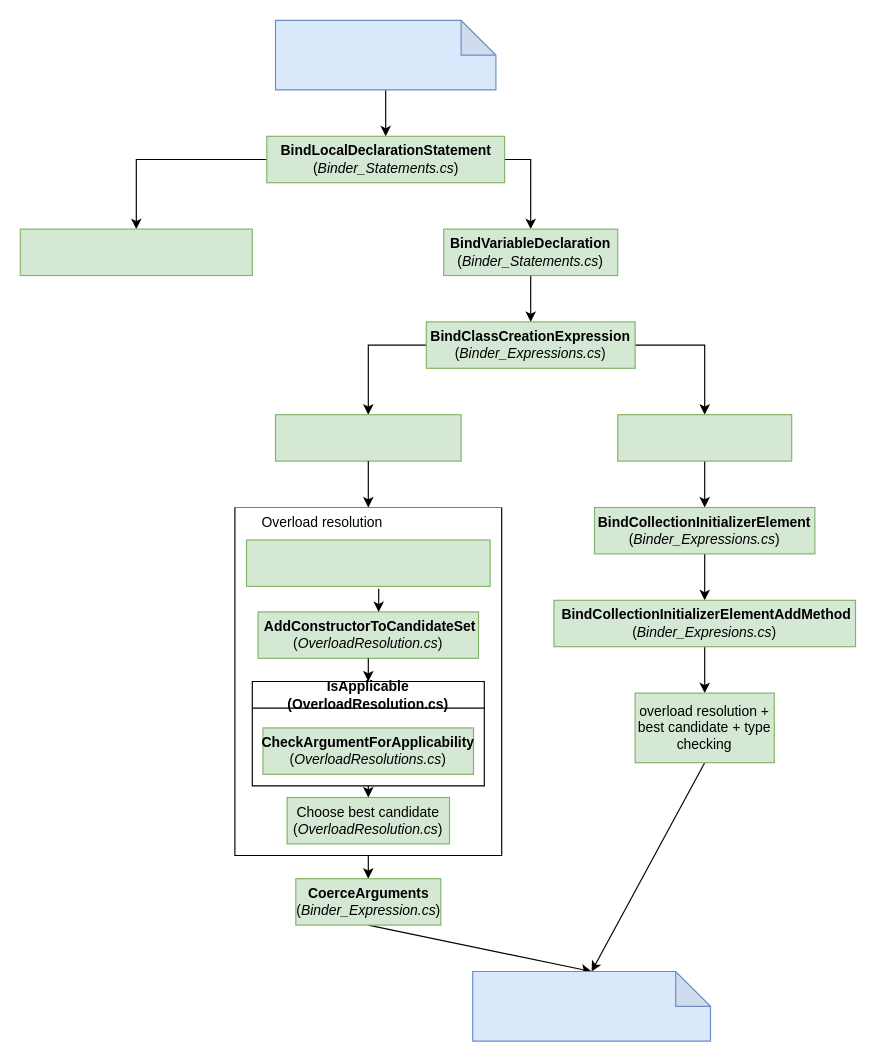
This 876x1061 diagram has some shape labels left out. The centre of each missing label's shape, as x and y in pixels:
"BindArgumentsAndNames ( Binder_Expressions.cs )" belongs at point 367,437.
"BindInitializerExpression ( Binder_Expressions.cs )" belongs at point 704,437.
"BindVariableTypeWithAnnotations ( Binder_Statements.cs )" belongs at point 135,252.
"Input: List<int> temp = new List(1) { 1 }" belongs at point 385,54.
"ObjectCreationOverloadResolution ( OverloadResolution.cs )" belongs at point 367,562.
"Output: BoundObjectCreationExpression" belongs at point 591,1005.
